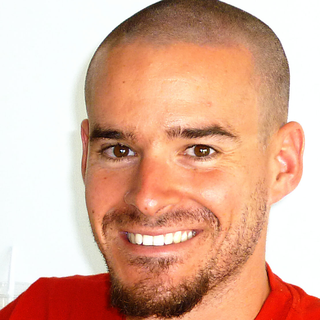eye: (177, 139, 225, 164), (95, 139, 139, 164)
